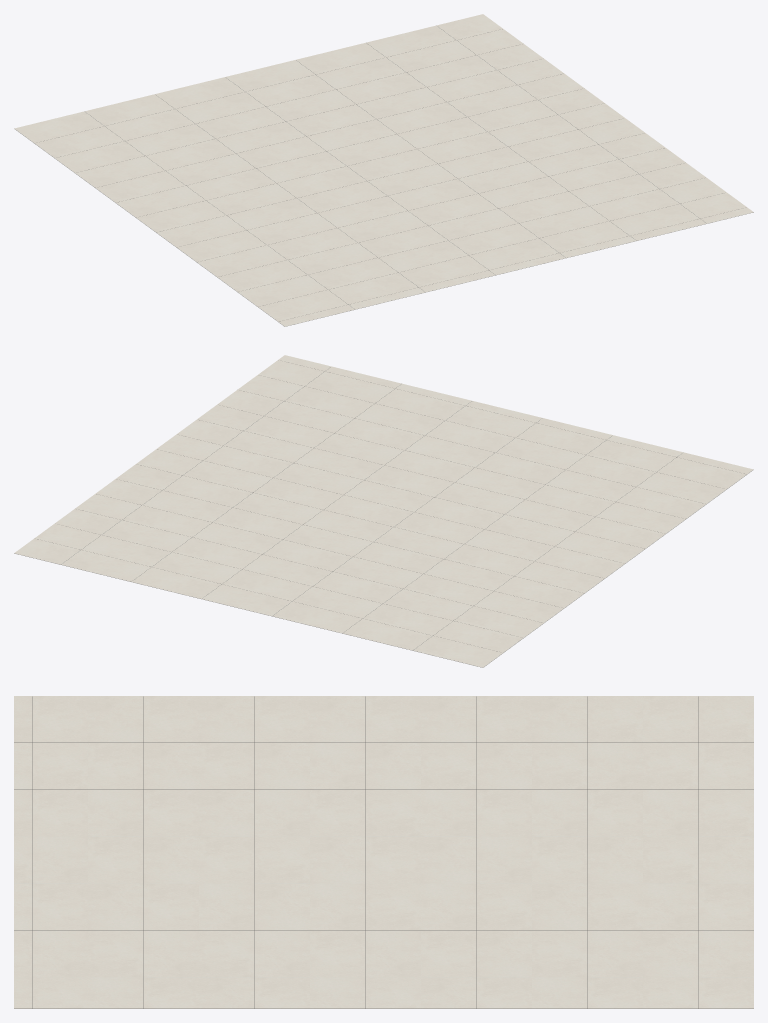
Rendered from opal-crema-60x120.glb.
The picture shows the model from 3 angles, top to bottom: view 1: azimuth 30°, elevation 25°; view 2: azimuth 150°, elevation 25°; view 3: azimuth 270°, elevation 25°; orthographic projection. The views are drawn at different scales.
Visible parts, largest first — view 1: Opal Crema; view 2: Opal Crema; view 3: Opal Crema.
Boxes of the visible parts, x1,y1,x2,y2 form: Opal Crema: [14, 14, 753, 326]; Opal Crema: [14, 355, 753, 667]; Opal Crema: [14, 696, 753, 1008].
Bounding box in the file's own units: 8 × 0.003 × 8.
Materials: 2 (1 with a texture image).
